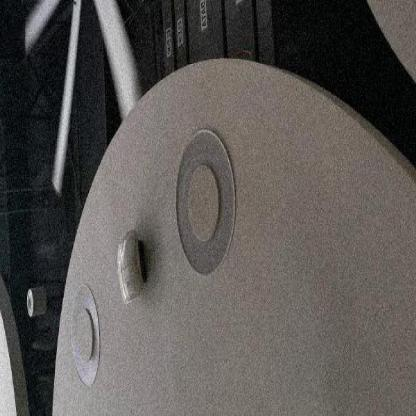light_off: (171, 88, 247, 307)
